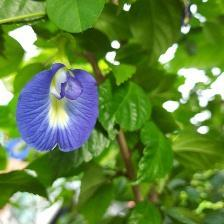shankupushpam: (15, 60, 102, 155)
